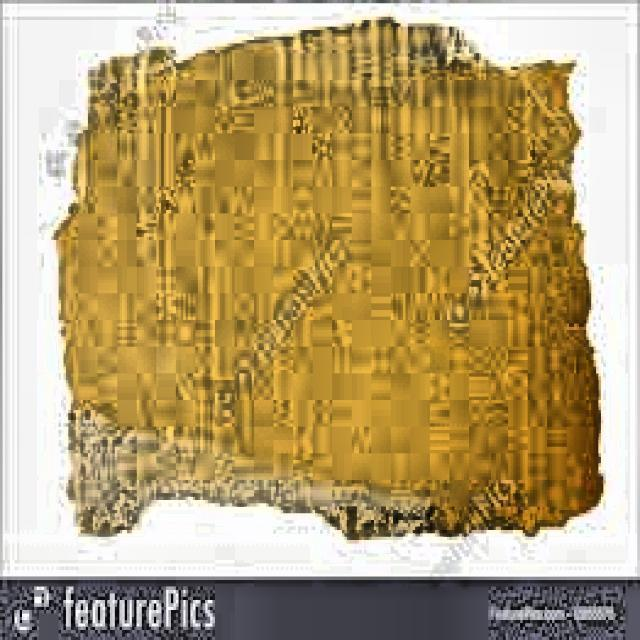cardboard: (51, 13, 604, 540)
